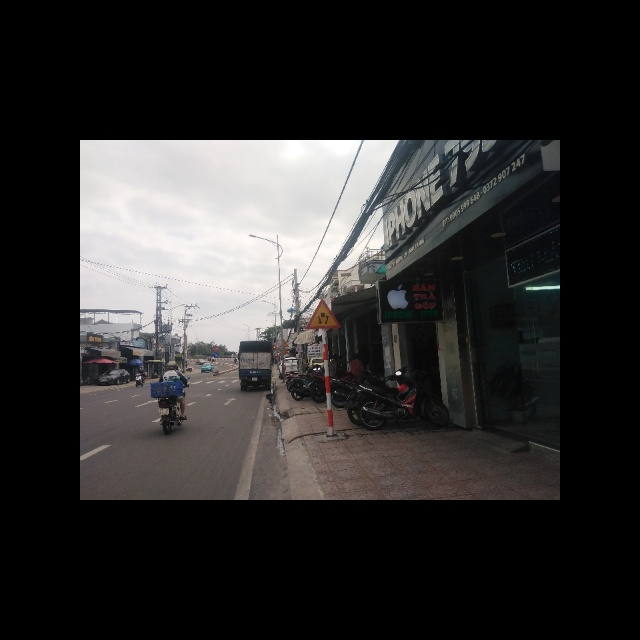Đường đôi: (305, 296, 340, 329)
